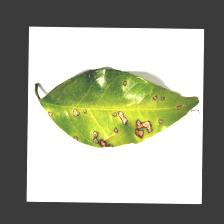canker: (45, 106, 167, 151)
